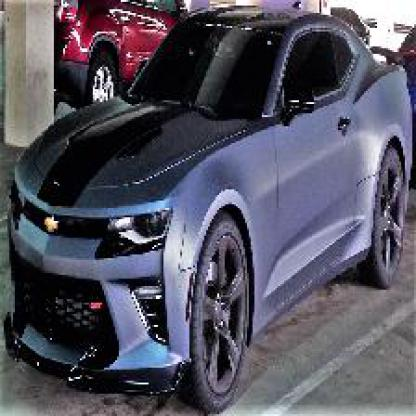not_emergency: (11, 9, 403, 410)
